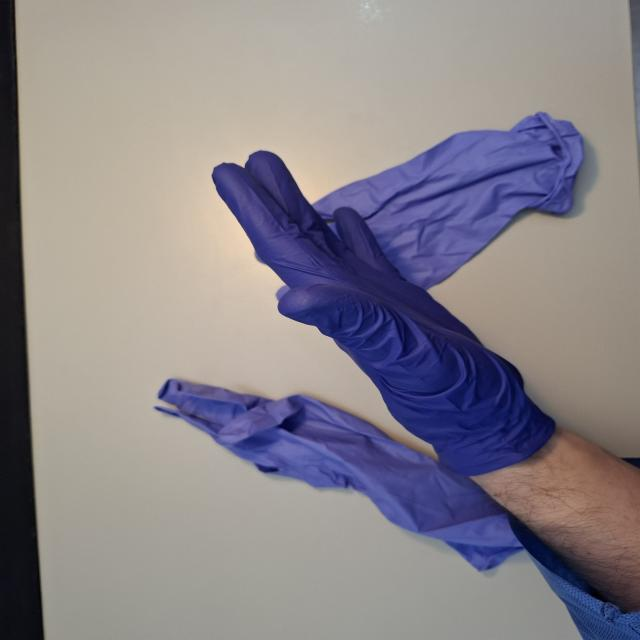glove_on: (208, 148, 550, 481)
